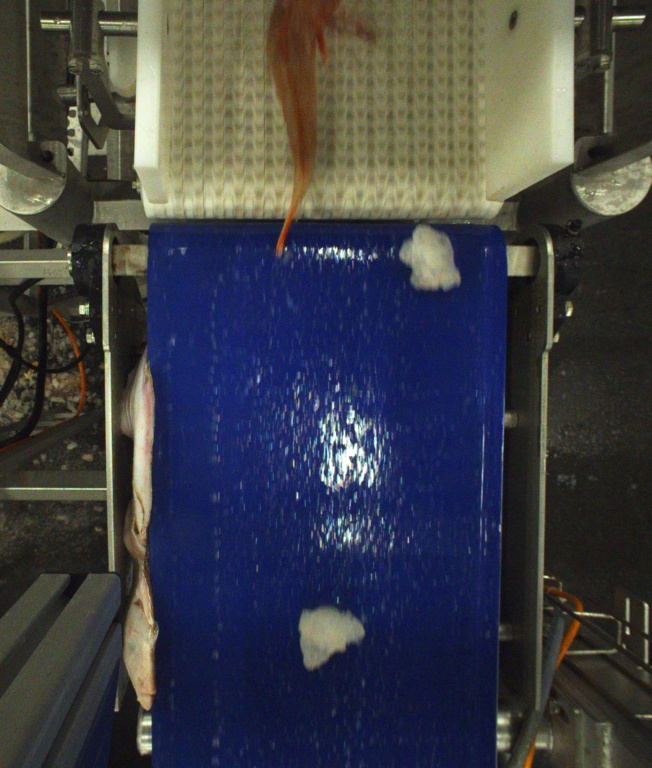GUU: (264, 0, 342, 260)
